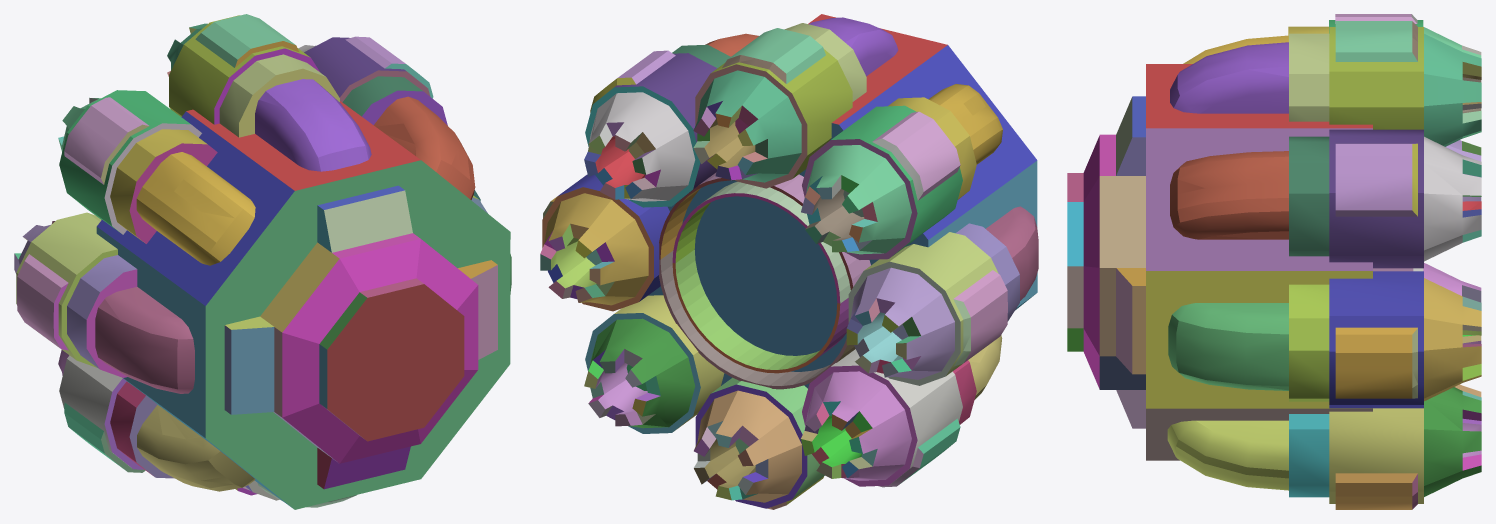
File: module-engine-01.glb
3 views of the same model, side by side, from view 1: azimuth 30°, elevation 25°; view 2: azimuth 150°, elevation 25°; view 3: azimuth 270°, elevation 25° (orthographic). The views are drawn at different scales.
Bounding box in the file's own units: 1.81 × 1.81 × 1.46.
